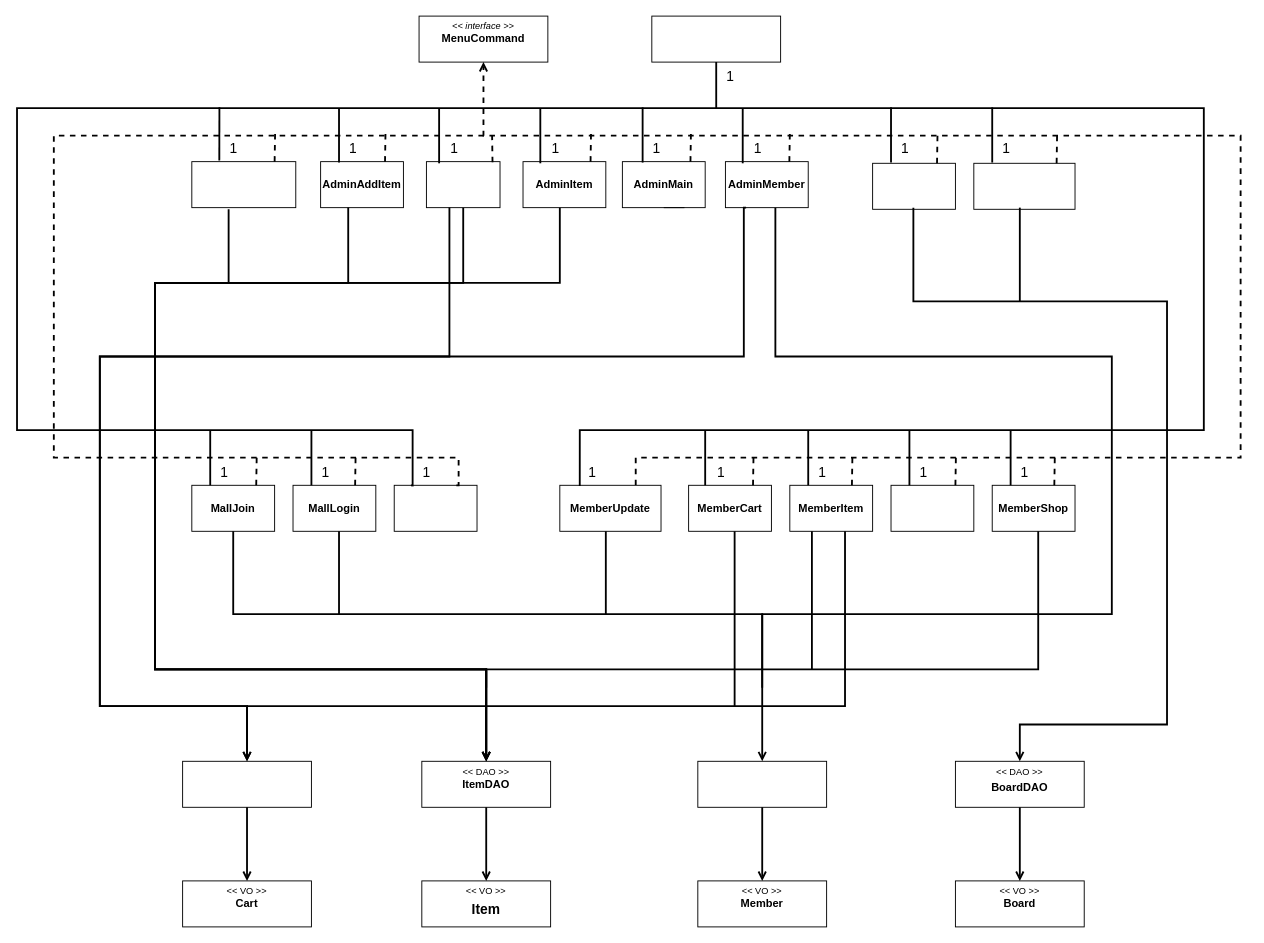
Image size: 1264x943. Some labels were removed from this diagram. The shapes that lost their labels are listed below. From the top down, each one's centre as x and y in pixels, then its label:
At (716,38): "<< controller >> MallController".
At (243,184): "AdminDeleteItem".
At (463,184): "AdminCart".
At (913,185): "BoardMain".
At (1024,185): "BoardMainText".
At (435,507): "MallMain".
At (932,507): "MemberMain".
At (246,783): "<< DAO >> CartDAO".
At (762,783): "<< DAO >> MemberDAO".
